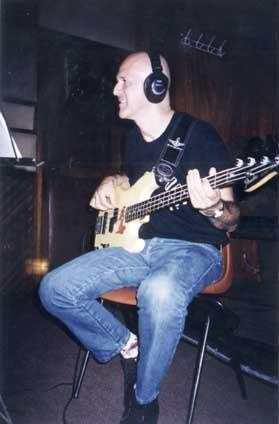without_mask: (111, 54, 170, 125)
